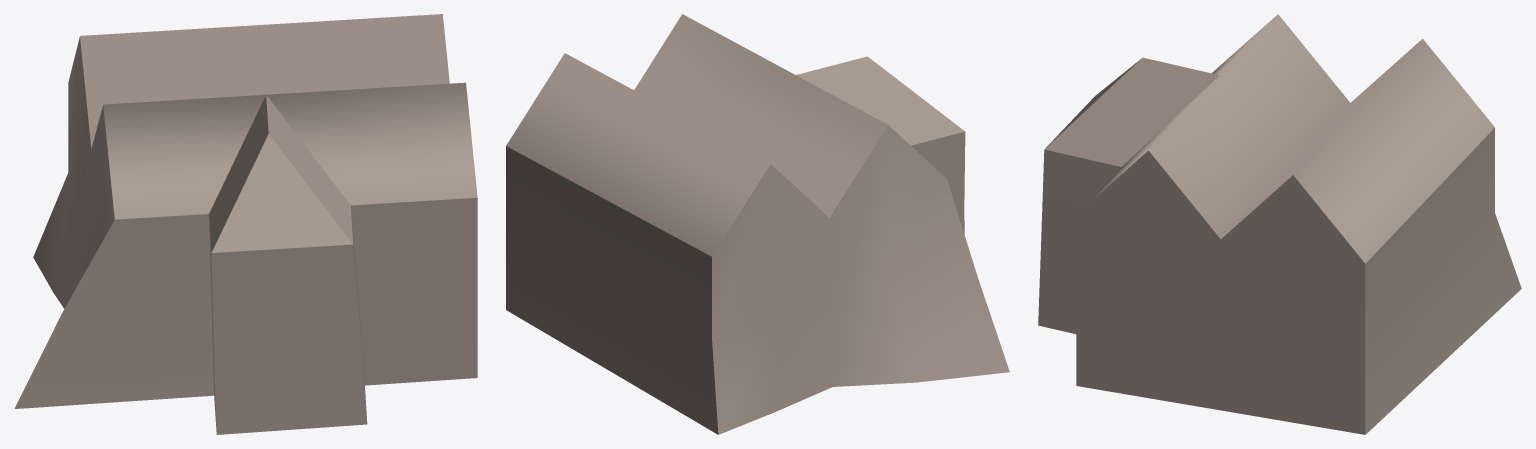
Rendered from Building_1.fbx.
3 renders of one model, left to right at view 1: azimuth 30°, elevation 25°; view 2: azimuth 150°, elevation 25°; view 3: azimuth 270°, elevation 25°, orthographic. The views are drawn at different scales.
Visible parts, largest first — view 1: pCube28; view 2: pCube28; view 3: pCube28.
Boxes of the visible parts, bbox=[...] form: pCube28: bbox=[14, 14, 477, 434]; pCube28: bbox=[506, 14, 1009, 434]; pCube28: bbox=[1038, 14, 1521, 434].
Bounding box in the file's own units: 15.49 × 7.96 × 14.08.
